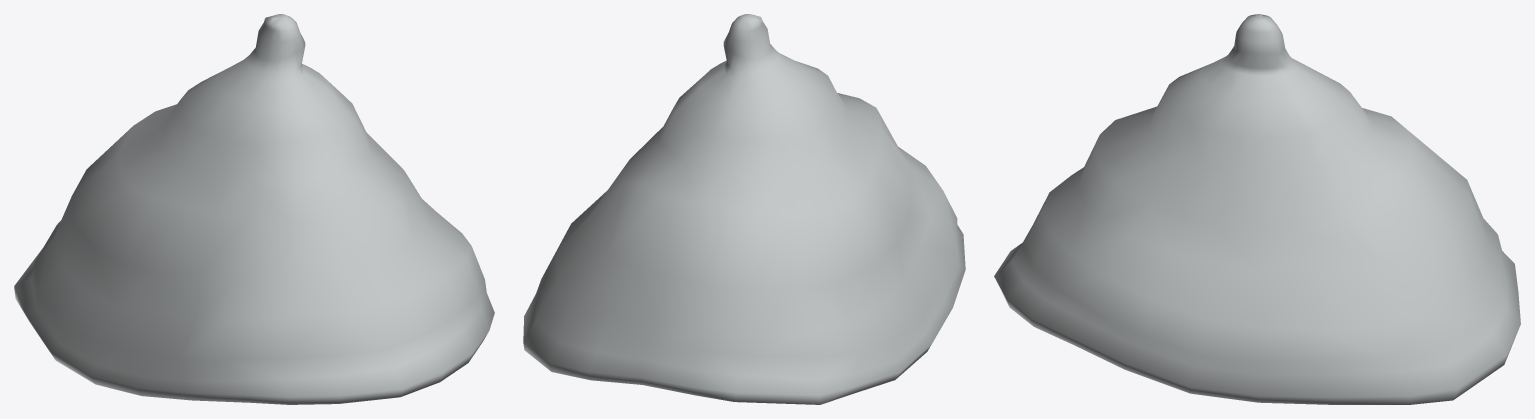
File: Tinfoil.glb
3 views of the same model, side by side, from view 1: azimuth 30°, elevation 25°; view 2: azimuth 150°, elevation 25°; view 3: azimuth 270°, elevation 25° (orthographic). The views are drawn at different scales.
Parts seen in each view (by area): view 1: Tinfoil; view 2: Tinfoil; view 3: Tinfoil.
Boxes of the visible parts, box(x1,y1,x2,y2) form: Tinfoil: box(14, 14, 494, 404); Tinfoil: box(523, 14, 965, 404); Tinfoil: box(994, 14, 1520, 404).
Size of the model in its own units: 0.8407 by 0.698 by 1.04.
Materials: 1 (1 with a texture image).
